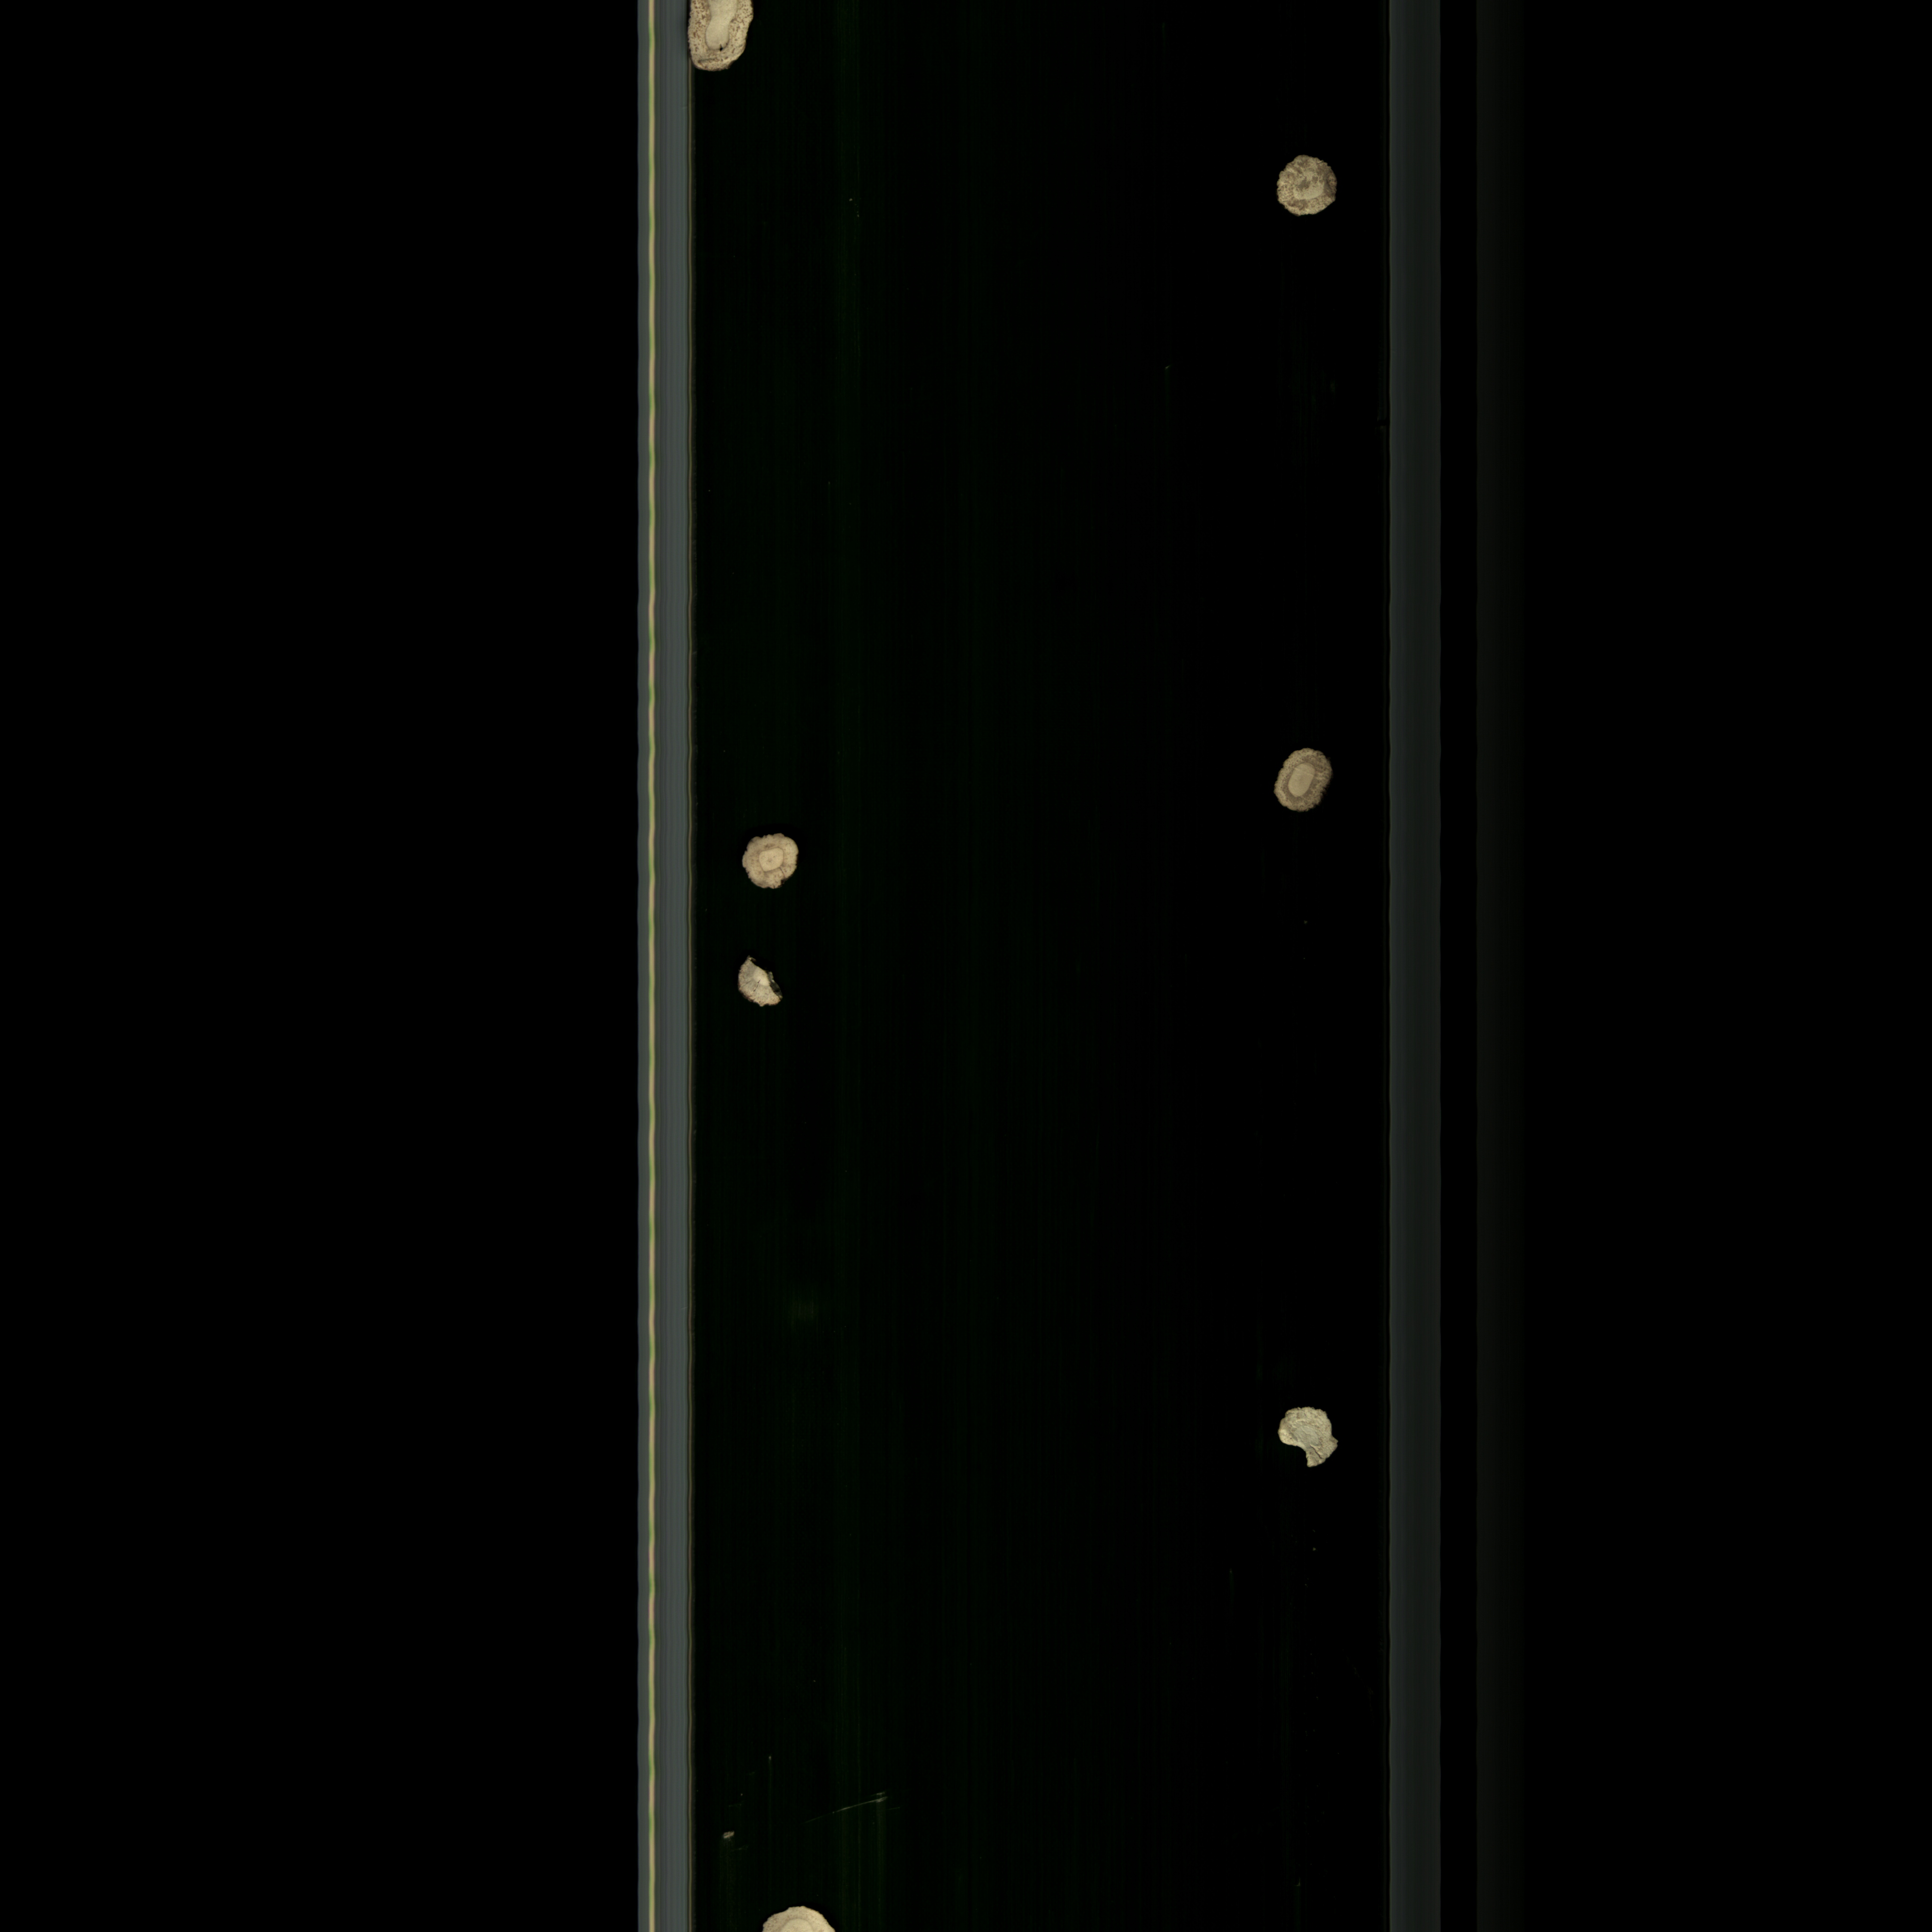debris: (1263, 1398, 1353, 1476), (722, 941, 794, 1017)
moldy: (1261, 734, 1348, 823), (1265, 150, 1345, 223), (678, 0, 759, 69)
